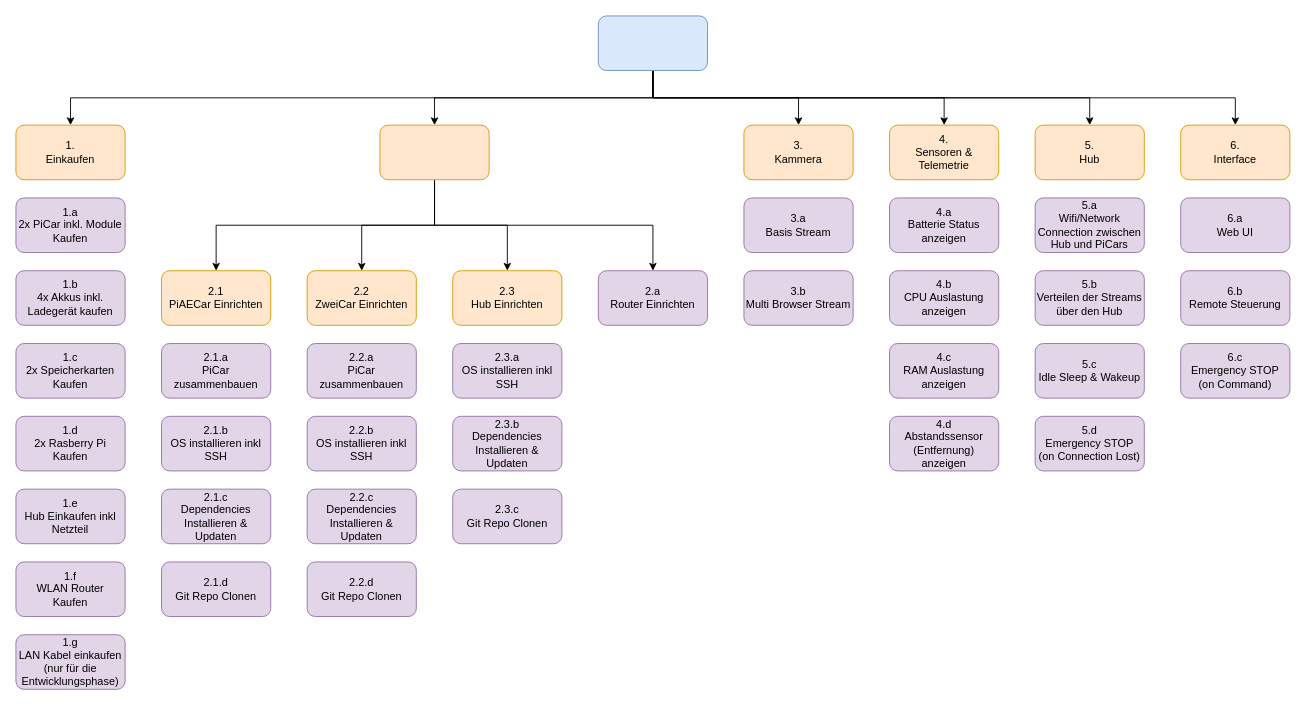
Image size: 1306x705. Some labels were removed from this diagram. The centre of each missing label's shape, as x and y in pixels:
2. Einrichten: point (434, 152)
PiCar: point (652, 43)
